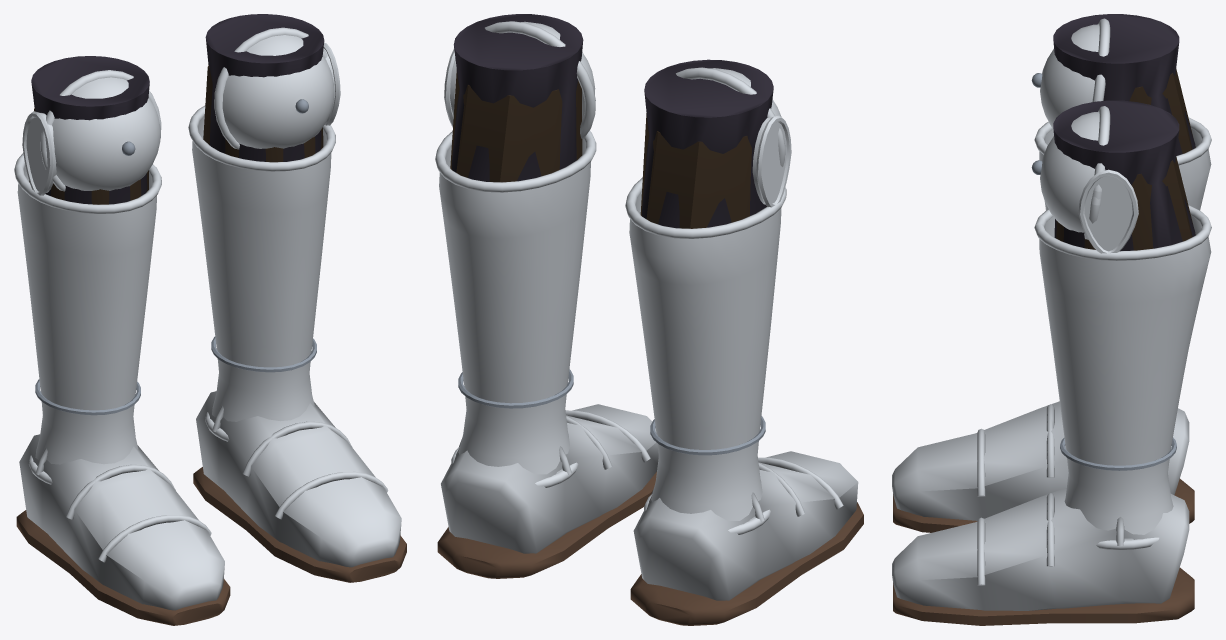
Rendered from f_knightplate_f.glb.
3 renders of one model, left to right at view 1: azimuth 30°, elevation 25°; view 2: azimuth 150°, elevation 25°; view 3: azimuth 270°, elevation 25°, orthographic. The views are drawn at different scales.
Visible parts, largest first — view 1: LegR_Boot, LegL_Boot, LegR_BootFoot, LegL_BootFoot, LegL_Shin, LegR_Shin; view 2: LegR_Boot, LegL_Boot, LegR_BootFoot, LegL_BootFoot, LegL_Shin, LegR_Shin; view 3: LegL_Boot, LegL_BootFoot, LegR_BootFoot, LegR_Boot, LegL_Shin, LegR_Shin.
Part boxes in pixels (left/top/right/bottom): LegR_Boot: left=14, top=56, right=161, bottom=484; LegL_Boot: left=188, top=14, right=340, bottom=441; LegR_BootFoot: left=16, top=434, right=230, bottom=625; LegL_BootFoot: left=193, top=391, right=406, bottom=582; LegL_Shin: left=203, top=65, right=323, bottom=162; LegR_Shin: left=29, top=108, right=148, bottom=204; LegR_Boot: left=625, top=59, right=791, bottom=534; LegL_Boot: left=435, top=14, right=596, bottom=487; LegR_BootFoot: left=630, top=451, right=863, bottom=625; LegL_BootFoot: left=437, top=404, right=658, bottom=578; LegL_Shin: left=450, top=69, right=582, bottom=182; LegR_Shin: left=640, top=113, right=766, bottom=228; LegL_Boot: left=1031, top=100, right=1211, bottom=549; LegL_BootFoot: left=892, top=487, right=1194, bottom=625; LegR_BootFoot: left=892, top=401, right=1194, bottom=532; LegR_Boot: left=1031, top=14, right=1211, bottom=210; LegL_Shin: left=1056, top=156, right=1195, bottom=250; LegR_Shin: left=1129, top=69, right=1195, bottom=153.
Bounding box in the file's own units: 0.3589 × 0.554 × 0.3261.
